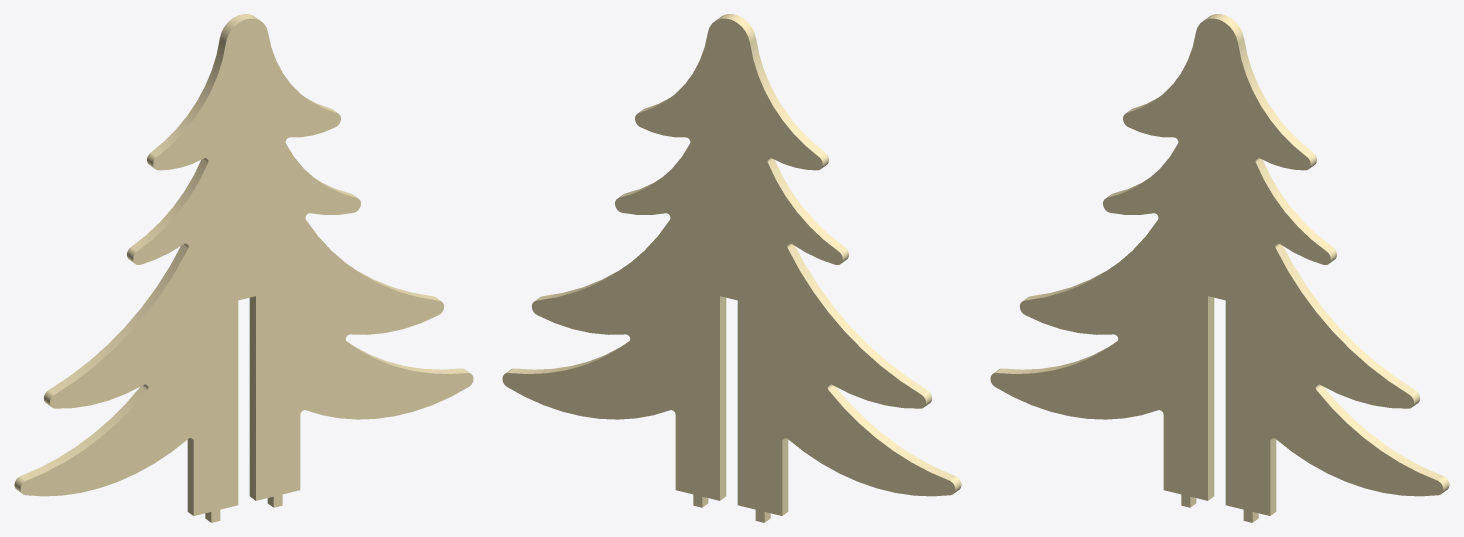
3 views of the same model, side by side, from view 1: azimuth 30°, elevation 25°; view 2: azimuth 150°, elevation 25°; view 3: azimuth 330°, elevation 25° (orthographic).
Visible parts, largest first — view 1: LAST; view 2: LAST; view 3: LAST.
Boxes of the visible parts, left/top/right/bottom form: LAST: left=14, top=14, right=473, bottom=522; LAST: left=502, top=14, right=961, bottom=522; LAST: left=990, top=14, right=1449, bottom=522.
Size of the model in its own units: 0.2545 by 0.2659 by 0.006.
